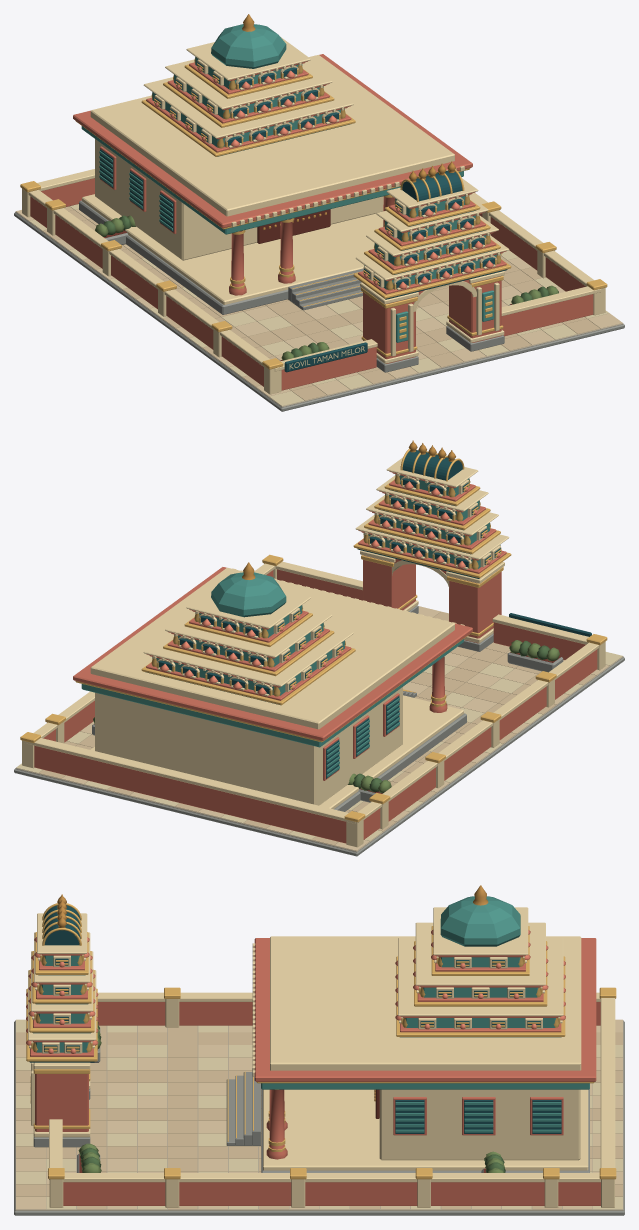
The picture shows the model from 3 angles, top to bottom: view 1: azimuth 30°, elevation 25°; view 2: azimuth 150°, elevation 25°; view 3: azimuth 270°, elevation 25°; orthographic projection. The views are drawn at different scales.
Visible parts, largest first — view 1: Sanctum Roof, Mandapa and Sanctum, Temple Court, Compound Walls, Sanctum Vimana, Gopuram Ornament, Gopuram Gateway, Court Planters, Temple Inscription; view 2: Compound Walls, Sanctum Roof, Mandapa and Sanctum, Sanctum Vimana, Temple Court, Gopuram Ornament, Gopuram Gateway, Court Planters; view 3: Sanctum Roof, Temple Court, Mandapa and Sanctum, Compound Walls, Sanctum Vimana, Gopuram Ornament, Gopuram Gateway, Court Planters.
Boxes of the visible parts, x1,y1,x2,y2 form: Sanctum Roof: [73, 54, 472, 234]; Mandapa and Sanctum: [79, 139, 395, 314]; Temple Court: [14, 204, 624, 411]; Compound Walls: [20, 169, 607, 394]; Sanctum Vimana: [141, 14, 355, 156]; Gopuram Ornament: [353, 161, 511, 299]; Gopuram Gateway: [360, 271, 504, 372]; Court Planters: [95, 215, 558, 361]; Temple Inscription: [284, 342, 367, 372]; Compound Walls: [20, 554, 607, 847]; Sanctum Roof: [73, 567, 472, 747]; Mandapa and Sanctum: [90, 656, 466, 811]; Sanctum Vimana: [141, 562, 355, 705]; Temple Court: [14, 606, 624, 856]; Gopuram Ornament: [353, 440, 511, 578]; Gopuram Gateway: [360, 550, 504, 651]; Court Planters: [92, 640, 563, 802]; Sanctum Roof: [252, 936, 596, 1089]; Temple Court: [14, 1019, 624, 1215]; Mandapa and Sanctum: [226, 1068, 589, 1172]; Compound Walls: [48, 987, 616, 1207]; Sanctum Vimana: [395, 885, 565, 1037]; Gopuram Ornament: [26, 894, 98, 1062]; Gopuram Gateway: [30, 1062, 90, 1147]; Court Planters: [77, 1021, 505, 1172].
Bounding box in the file's own units: 16 × 9.17 × 21.6.
